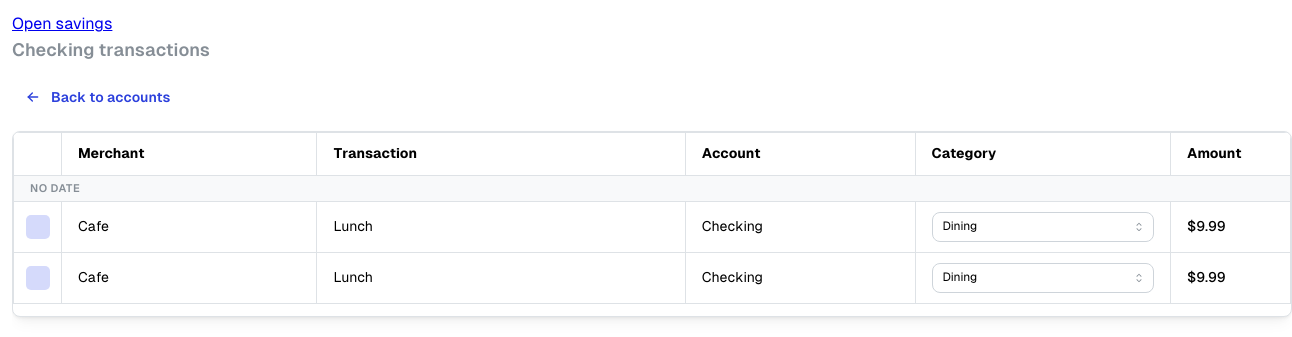
AccountTransactionsView › starts from the top when navigating to another account
The width and height of the screenshot is (1292, 337).
Expected: the 1st text "Lunch" is shown, left=317, top=201, right=685, bottom=252
Click the link "Open savings" at (62,24), box left=12, top=14, right=112, bottom=33
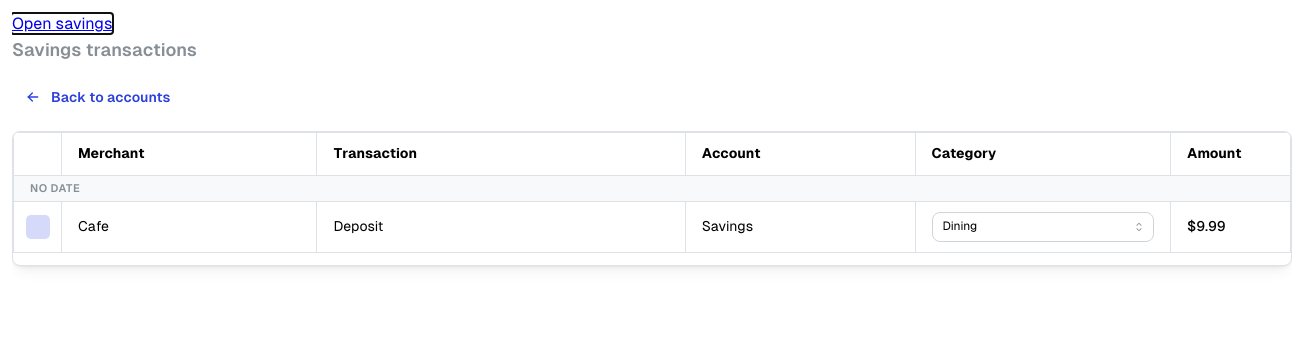
Expected: the text "Deposit" is shown, left=317, top=201, right=685, bottom=252
Expected: the heading "Savings transactions" is shown, left=12, top=39, right=197, bottom=60
Expected: the text "Lunch" is gone
